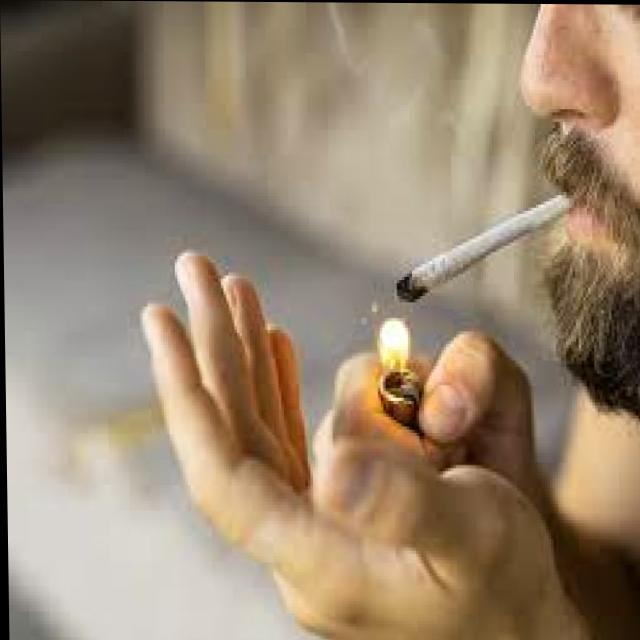fire: (360, 305, 410, 369)
